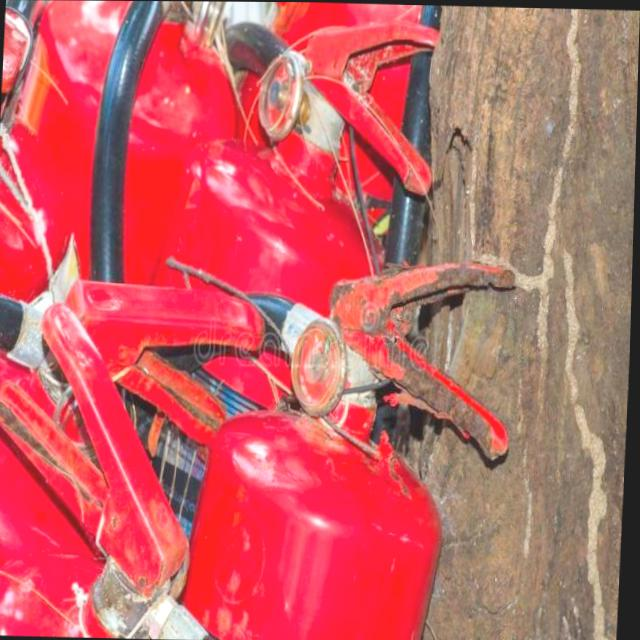FireExtinguisher: (105, 1, 447, 640), (55, 246, 529, 640), (0, 0, 264, 570)
